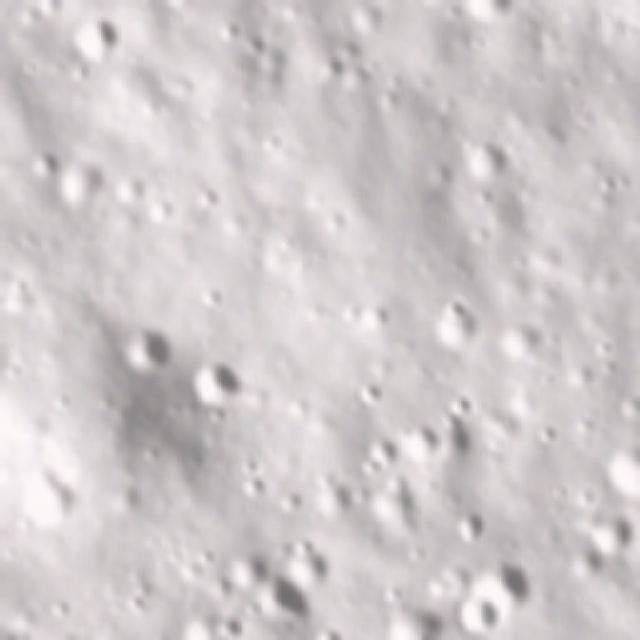crater: (257, 564, 317, 630), (426, 288, 479, 358), (476, 555, 533, 608), (194, 352, 249, 405), (459, 130, 510, 182), (120, 327, 178, 368), (64, 15, 118, 57), (593, 512, 635, 554), (404, 418, 445, 460), (448, 501, 488, 542), (570, 542, 604, 582), (350, 373, 384, 410), (363, 434, 400, 466), (22, 145, 55, 172), (204, 402, 230, 426)
